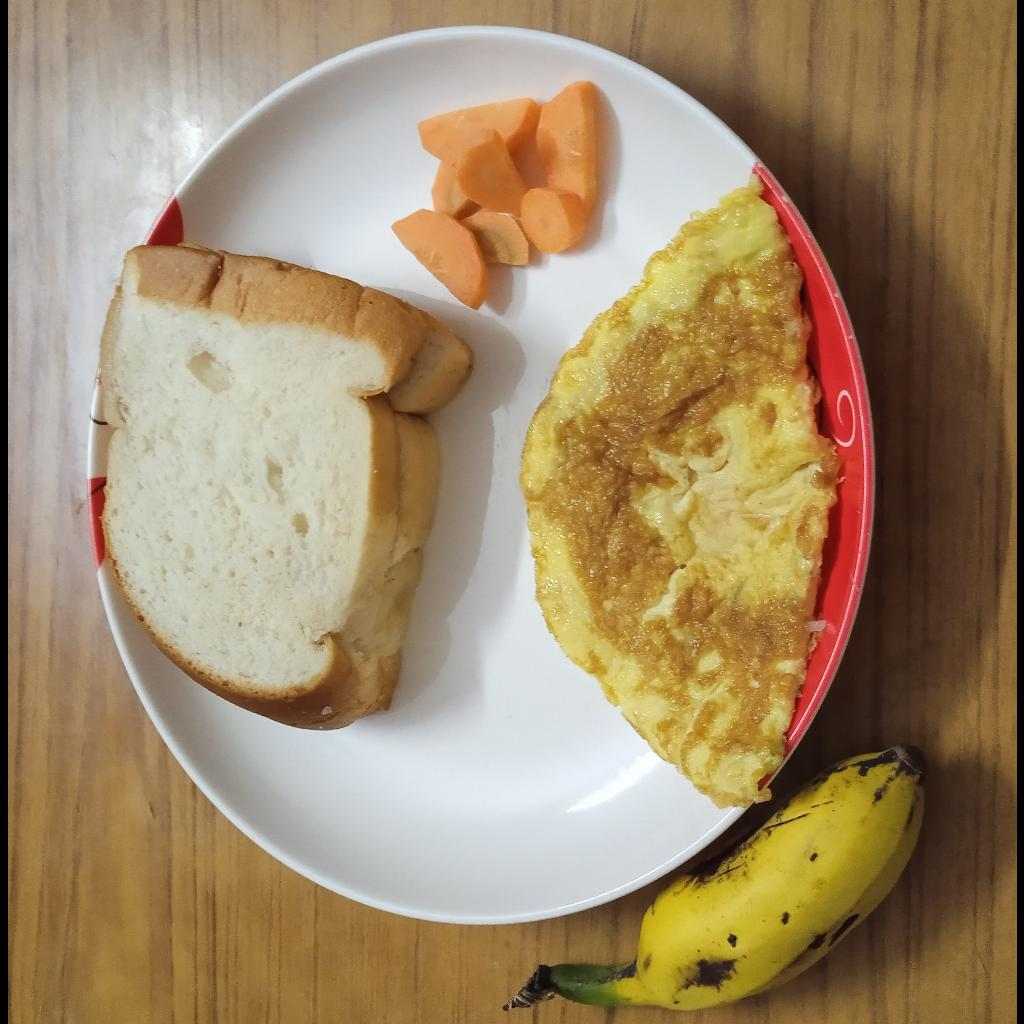banana: (547, 744, 923, 1013)
bread: (99, 245, 472, 731)
carrot: (389, 80, 599, 314)
egg-poached: (518, 177, 836, 811)
